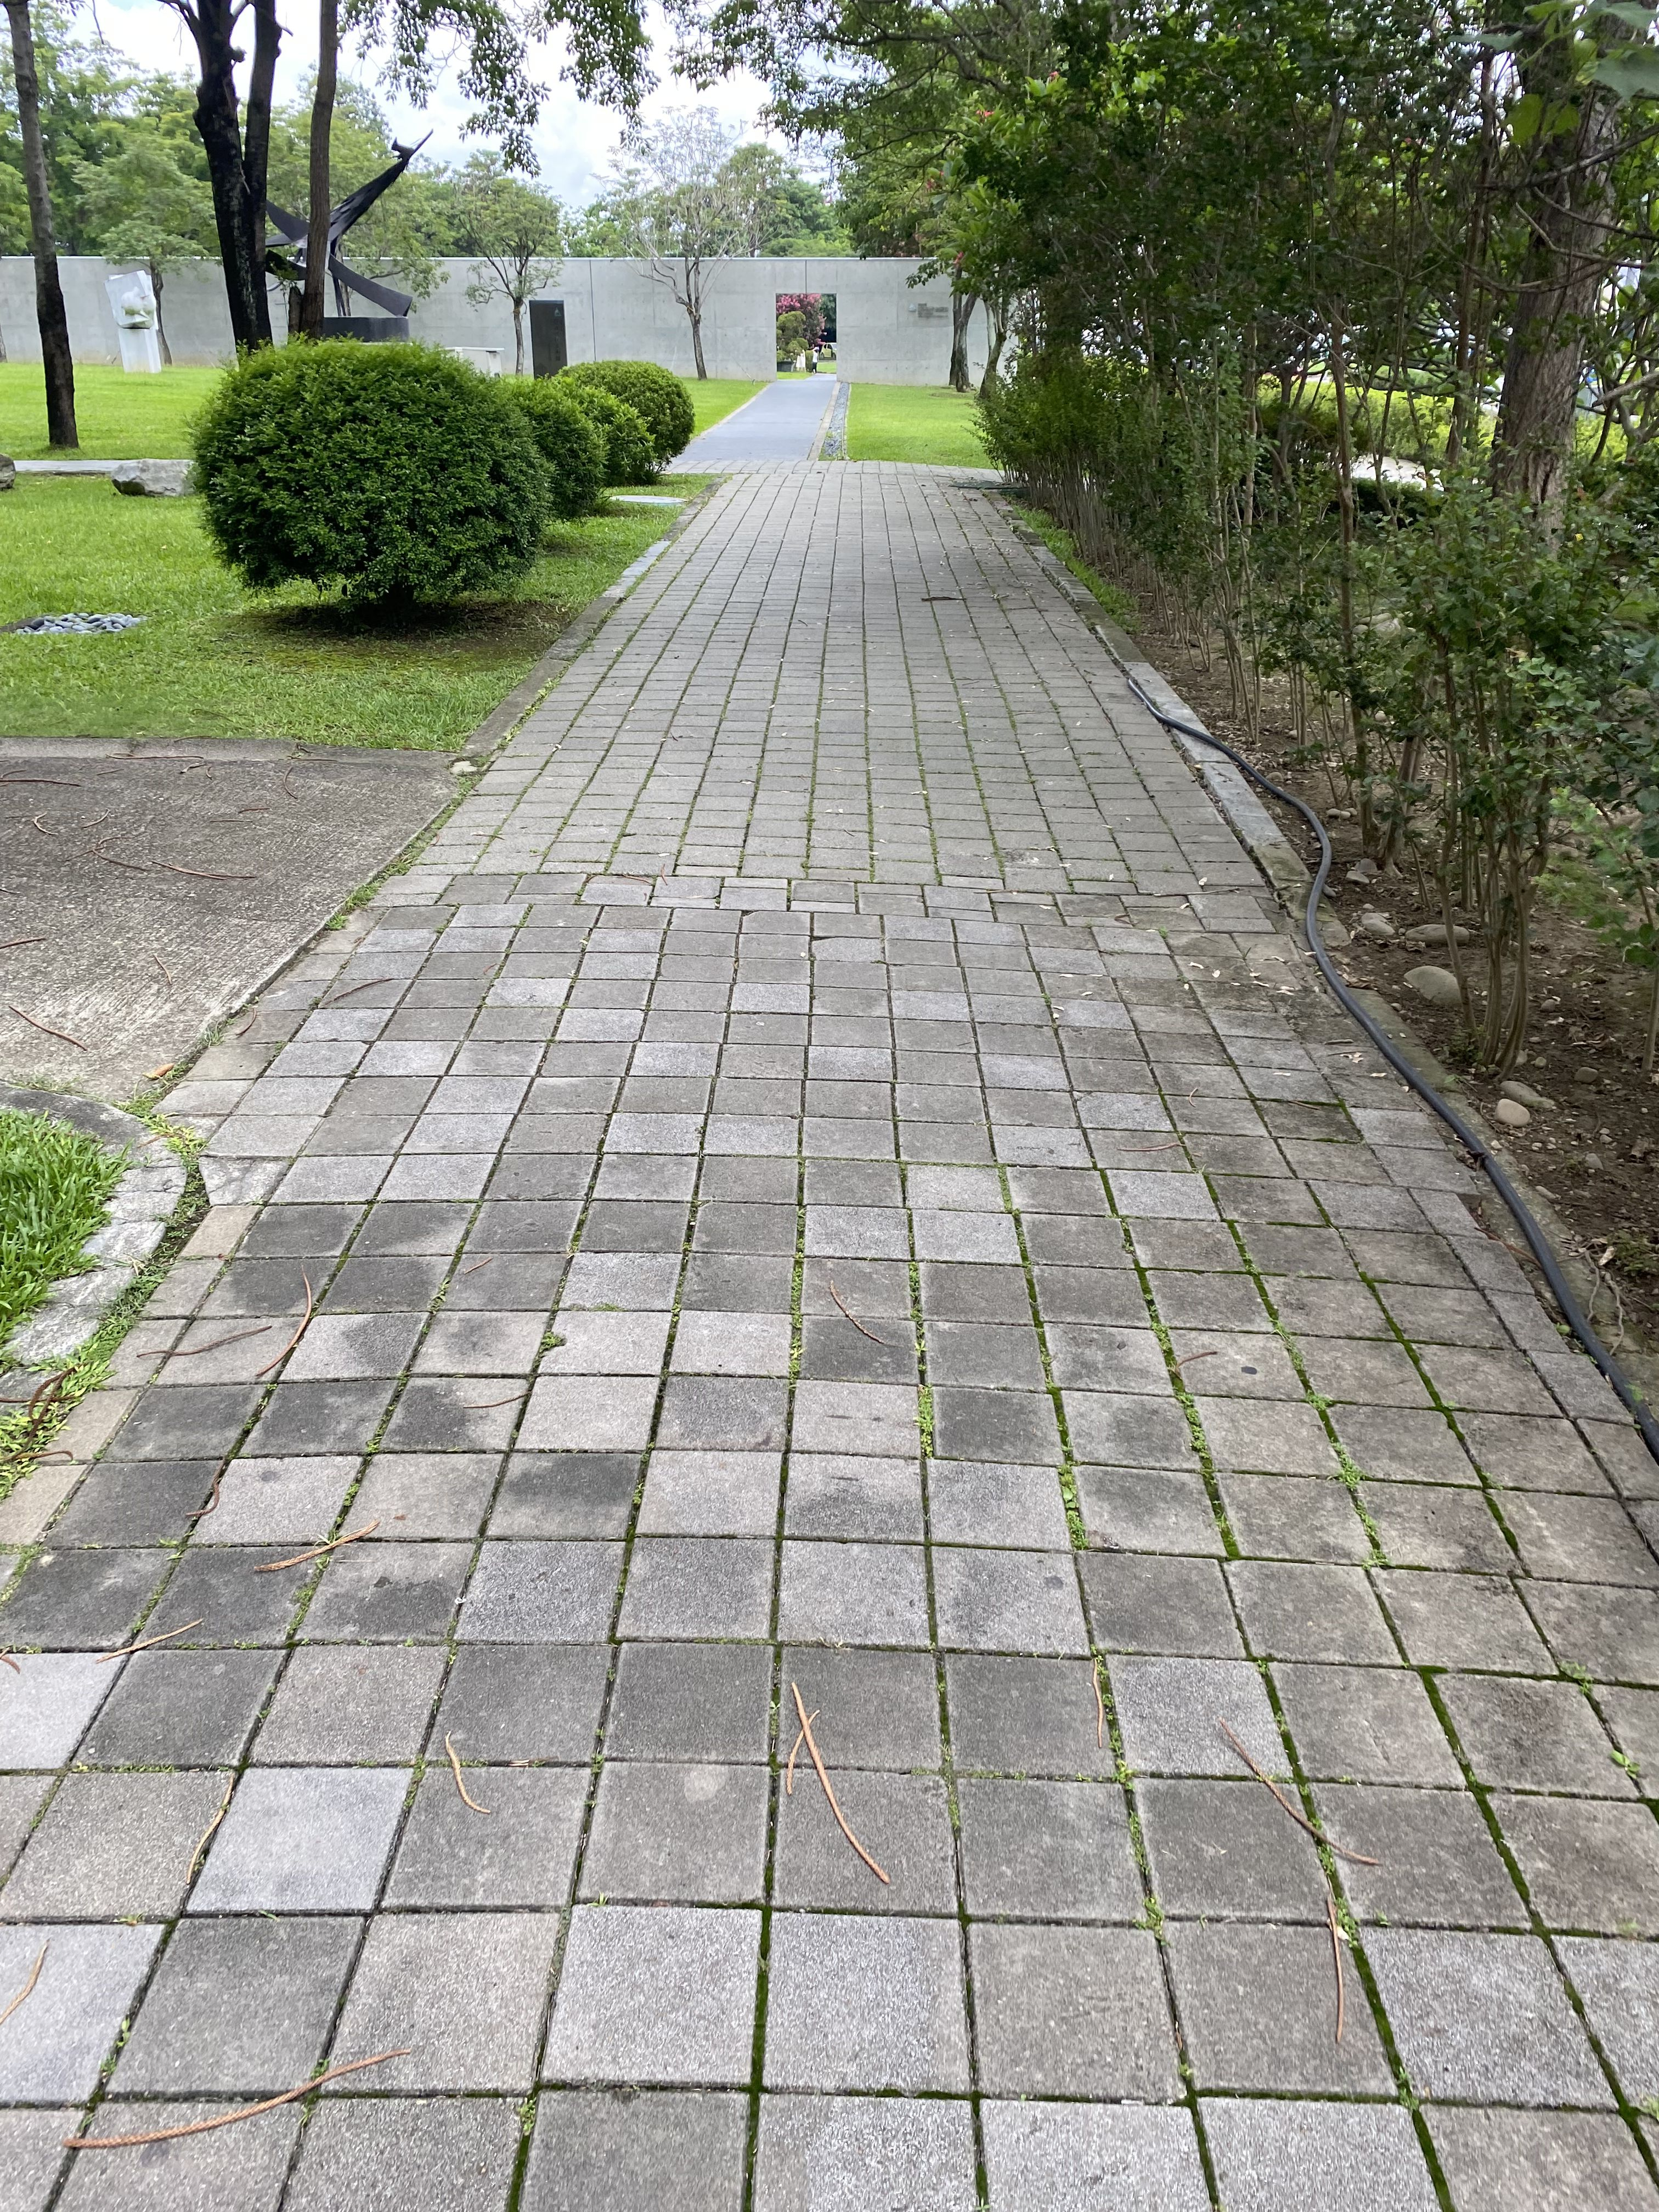0: (589, 324, 1197, 759)
sidewalk: (5, 745, 1659, 2200)
